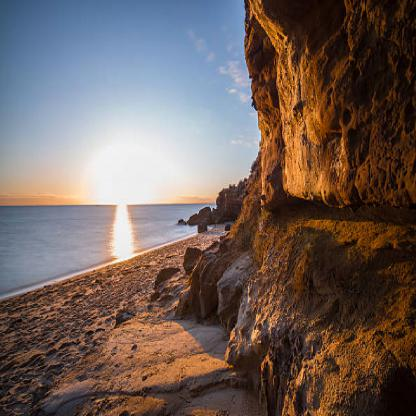Sedimentary_Sandstone: (250, 0, 415, 216), (250, 234, 415, 413), (192, 244, 239, 322)
